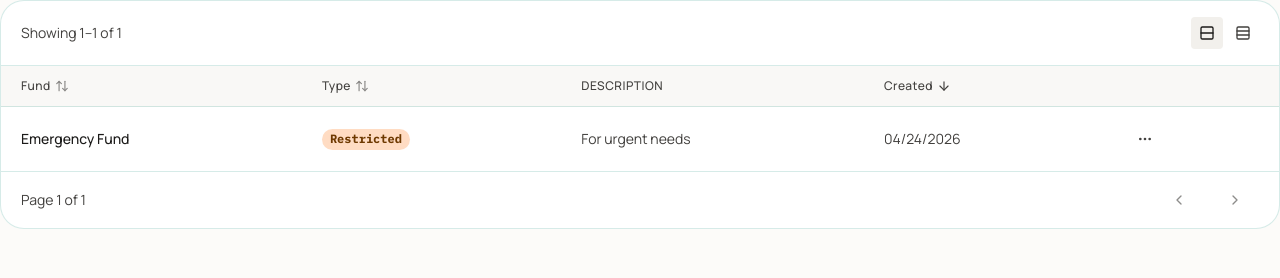
Test: FundsTable › shows edit and delete actions for managed funds
Click the button named "Open actions for Emergency Fund" at (1145, 139), box [1121,123,1169,155]
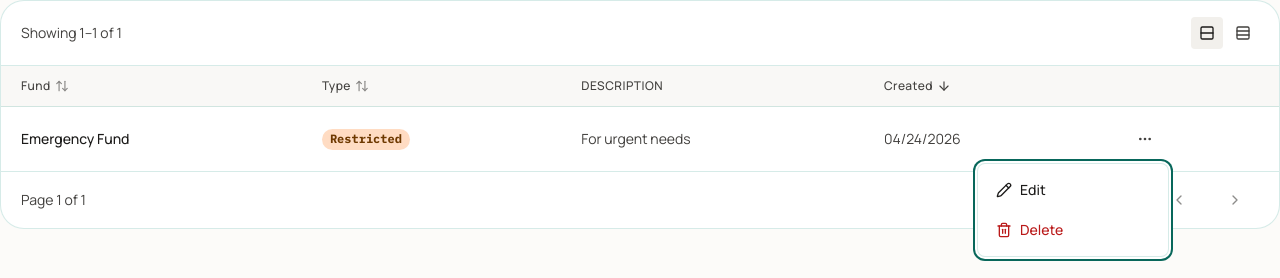
Now the menu item "Delete" is shown, box [996,220,1063,239]
